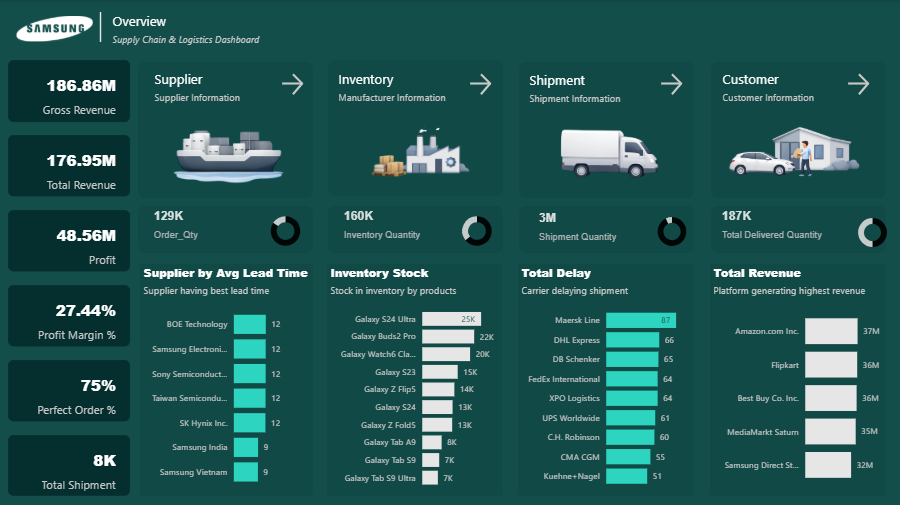

The page's visual inventory and layout, read from the dashboard file:
{"tool":"powerbi","page":{"name":"Overview","canvas":[1280,720],"ordinal":1},"visuals":[{"type":"shape","box":[1010.4,87.9,248,192.8],"z":0},{"type":"shape","box":[738.2,87.9,248,192.8],"z":1000},{"type":"shape","box":[467,85,248,192.8],"z":2000},{"type":"shape","box":[198.9,87.9,248,192.8],"z":3000},{"type":"shape","box":[202,90.7,249.1,187],"z":4000},{"type":"image","box":[211.9,156.8,221.8,110.9],"z":5000},{"type":"image","box":[483.1,157.3,221,110],"z":6000},{"type":"image","box":[753.4,157.3,221,110],"z":7000},{"type":"image","box":[1023.8,157.6,220.3,109.4],"z":8000},{"type":"actionButton","box":[396.4,99.5,50.4,40.3],"z":9000},{"type":"actionButton","box":[662.9,99.4,50.4,40.3],"z":10000},{"type":"actionButton","box":[933.9,99.4,50.4,40.3],"z":11000},{"type":"actionButton","box":[1199.1,99.5,50.4,40.3],"z":12000},{"type":"textbox","title":"Supplier","box":[216.6,99.6,148.3,54.7],"z":13000},{"type":"textbox","title":"Inventory","box":[478.1,99.4,174.2,54.7],"z":14000},{"type":"textbox","title":"Shipment","box":[748,100.7,148.3,54.7],"z":15000},{"type":"textbox","title":"Customer","box":[1021.6,99.6,148.3,54.7],"z":16000},{"type":"textbox","title":"Overview","box":[157.3,17,248,53.9],"z":17000},{"type":"shape","box":[131.8,17,26.9,42.5],"z":18000},{"type":"cardVisual","fields":{"Data":["Measures Table.Total_Revenue"]},"box":[14.2,191.9,172.8,87],"z":19000},{"type":"cardVisual","fields":{"Data":["Measures Table.Profit"]},"box":[14.2,298,172.8,87],"z":20000},{"type":"cardVisual","fields":{"Data":["Measures Table.Profit Margin %"]},"box":[14.2,404.1,172.8,87],"z":21000},{"type":"cardVisual","fields":{"Data":["Measures Table.Perfect Order %"]},"box":[14.2,510.2,172.8,87],"z":22000},{"type":"cardVisual","fields":{"Data":["Measures Table.Total_Shipment"]},"box":[14.2,616.3,172.8,86.4],"z":23000},{"type":"cardVisual","fields":{"Data":["Sum(fact_sales.gross_revenue)"]},"box":[14.2,85,172.8,87.8],"z":24000},{"type":"shape","box":[201.6,291.9,249.1,72],"z":25000},{"type":"shape","box":[470.9,291.9,249.1,72],"z":26000},{"type":"shape","box":[740.2,291.9,249.1,72],"z":27000},{"type":"cardVisual","fields":{"Data":["Measures Table.Order_Qty"]},"box":[204.1,277.8,140.3,80.8],"z":28000},{"type":"cardVisual","fields":{"Data":["Measures Table.Inventory_Value"]},"box":[473.4,277.8,167.2,80.8],"z":29000},{"type":"cardVisual","fields":{"Data":["Measures Table.Total_Shipment_Quantity"]},"box":[749.8,277.8,167.2,86.5],"z":30000},{"type":"cardVisual","fields":{"Data":["Measures Table.Total_Delivered_Quantity"]},"box":[1009.1,277.8,201.3,80.8],"z":31000},{"type":"clusteredBarChart","title":"Supplier by Avg Lead Time","fields":{"Y":["Measures Table.Avg_Lead_Time"],"Category":["dim_supplier.supplier_name"]},"box":[200.6,374.4,244.8,328],"z":32000},{"type":"clusteredBarChart","title":"Inventory Stock","fields":{"Y":["Measures Table.Inventory_Value"],"Category":["dim_product.product_name"]},"box":[466.5,374.4,249.1,328],"z":33000},{"type":"clusteredBarChart","title":"Total Delay","fields":{"Category":["fact_shipment.carrier"],"Y":["Measures Table.Total_Delay"]},"box":[737.7,374.4,249.1,328],"z":34000},{"type":"clusteredBarChart","title":"Total Revenue","fields":{"Y":["Measures Table.Total_Revenue"],"Category":["dim_customer.customer_name"]},"box":[1009.8,374.4,249.1,328.3],"z":35000},{"type":"donutChart","fields":{"Y":["Measures Table.Inventory_Value","Measures Table.Safety_Stock"]},"box":[640.6,296.2,76.5,62.4],"z":36000},{"type":"donutChart","fields":{"Y":["Measures Table.Total_Shipment","Measures Table.Total_Delay"]},"box":[917,297.6,76.5,60.9],"z":37000},{"type":"donutChart","fields":{"Y":["Measures Table.Total_Delivered_Quantity","Measures Table.Total_QTY_Delay"]},"box":[1199.1,299.1,80.8,60.9],"z":38000},{"type":"donutChart","fields":{"Y":["Measures Table.Order_Qty","Measures Table.Defective_Rate"]},"box":[365.7,296.2,83.6,62.4],"z":39000},{"type":"shape","box":[198.9,292,248,66.6],"z":40000},{"type":"shape","box":[467,292,248,66.6],"z":41000},{"type":"shape","box":[738.2,292,248,66.6],"z":42000},{"type":"shape","box":[1010.4,292,248,66.6],"z":43000},{"type":"image","box":[21.3,5.7,117.6,70.9],"z":44000}]}

Visuals, with their boxes in screenshot pixels (x1, y1, x2, y2), scaled from the page's 1280x720 canvas onto the 900x505 screenshot:
shape: 710 62 885 197
shape: 519 62 693 197
shape: 328 60 503 195
shape: 140 62 314 197
shape: 142 64 317 195
image: 149 110 305 188
image: 340 110 495 187
image: 530 110 685 187
image: 720 111 875 187
actionButton: 279 70 314 98
actionButton: 466 70 502 98
actionButton: 657 70 692 98
actionButton: 843 70 879 98
"Supplier" textbox: 152 70 257 108
"Inventory" textbox: 336 70 459 108
"Shipment" textbox: 526 71 630 109
"Customer" textbox: 718 70 823 108
"Overview" textbox: 111 12 285 50
shape: 93 12 112 42
cardVisual - Measures Table.Total_Revenue: 10 135 131 196
cardVisual - Measures Table.Profit: 10 209 131 270
cardVisual - Measures Table.Profit Margin %: 10 283 131 344
cardVisual - Measures Table.Perfect Order %: 10 358 131 419
cardVisual - Measures Table.Total_Shipment: 10 432 131 493
cardVisual - Sum(fact_sales.gross_revenue): 10 60 131 121
shape: 142 205 317 255
shape: 331 205 506 255
shape: 520 205 696 255
cardVisual - Measures Table.Order_Qty: 144 195 242 252
cardVisual - Measures Table.Inventory_Value: 333 195 450 252
cardVisual - Measures Table.Total_Shipment_Quantity: 527 195 645 256
cardVisual - Measures Table.Total_Delivered_Quantity: 710 195 851 252
"Supplier by Avg Lead Time" clusteredBarChart: 141 263 313 493
"Inventory Stock" clusteredBarChart: 328 263 503 493
"Total Delay" clusteredBarChart: 519 263 694 493
"Total Revenue" clusteredBarChart: 710 263 885 493
donutChart - Measures Table.Inventory_Value x Measures Table.Safety_Stock: 450 208 504 252
donutChart - Measures Table.Total_Shipment x Measures Table.Total_Delay: 645 209 699 251
donutChart - Measures Table.Total_Delivered_Quantity x Measures Table.Total_QTY_Delay: 843 210 899 252
donutChart - Measures Table.Order_Qty x Measures Table.Defective_Rate: 257 208 316 252
shape: 140 205 314 252
shape: 328 205 503 252
shape: 519 205 693 252
shape: 710 205 885 252
image: 15 4 98 54
